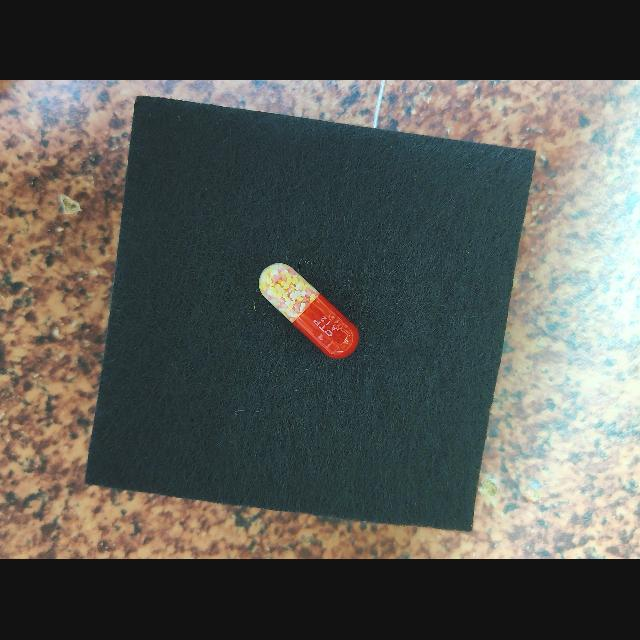Intact Capsule: (259, 264, 359, 360)
